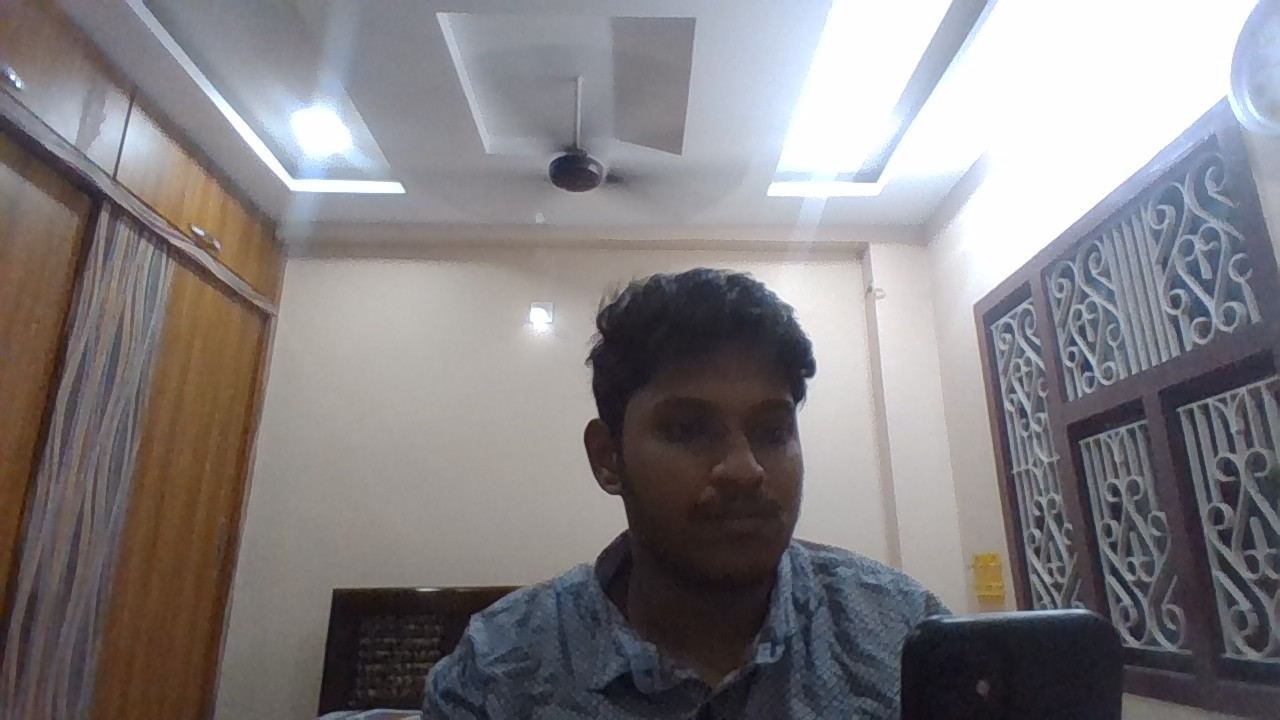mobile phone: (898, 604, 1183, 720)
person: (426, 173, 895, 651)
